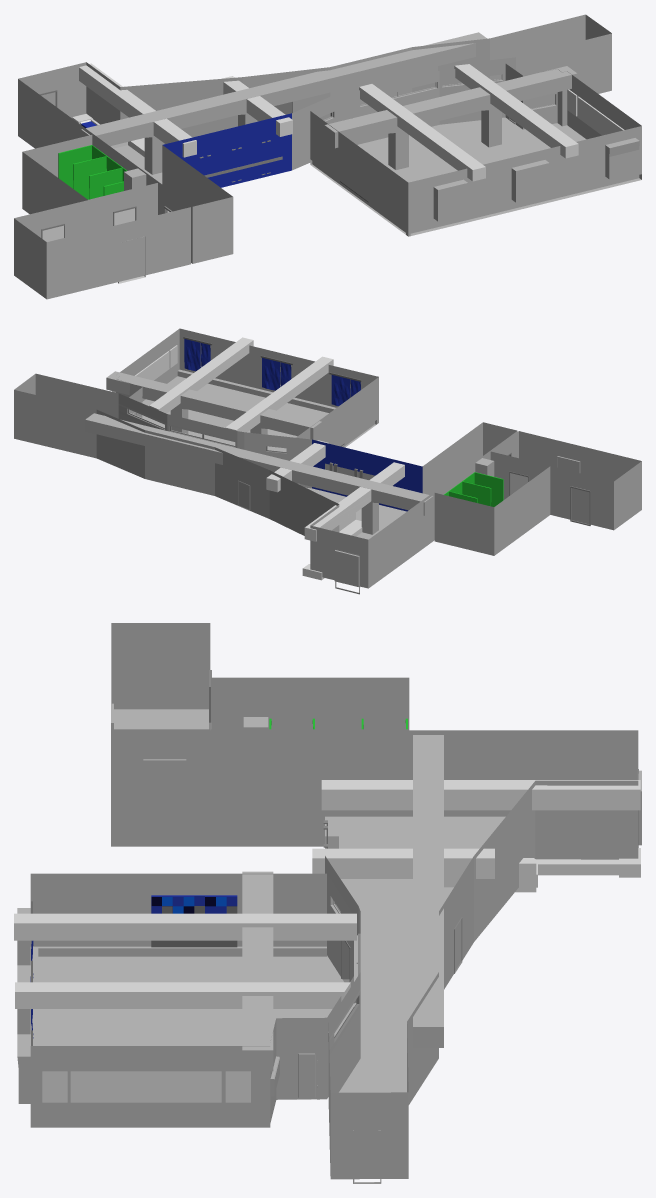
File: ScenaOld.fbx
3 views of the same model, one above another, from view 1: azimuth 30°, elevation 25°; view 2: azimuth 150°, elevation 25°; view 3: azimuth 270°, elevation 25° (orthographic). The views are drawn at different scales.
Visible parts, largest first — view 1: Hallway, Room, WC, HallwaySTUP, HallwaySTUP.001, Stalls, WhiteBoard2; view 2: Hallway, WC, Room, HallwaySTUP, HallwaySTUP.001, Stalls, Curtain2, Curtain3, Curtain1, WhiteBoard2; view 3: Hallway, Room, HallwaySTUP.001, HallwaySTUP, WC, WhiteBoard2, Hangers, SeatingArea, WhiteBoard1, WhiteBoard3, Bar.
Part boxes in pixels (bbox=[...]): Hallway: bbox=[18, 14, 611, 263]; Room: bbox=[310, 63, 641, 236]; WC: bbox=[14, 135, 190, 299]; HallwaySTUP: bbox=[79, 32, 486, 174]; HallwaySTUP.001: bbox=[324, 64, 578, 181]; Stalls: bbox=[58, 145, 127, 199]; WhiteBoard2: bbox=[577, 96, 624, 135]; Hallway: bbox=[14, 373, 517, 594]; WC: bbox=[434, 431, 641, 555]; Room: bbox=[112, 328, 378, 452]; HallwaySTUP: bbox=[85, 413, 433, 541]; HallwaySTUP.001: bbox=[106, 337, 333, 449]; Stalls: bbox=[444, 472, 503, 506]; Curtain2: bbox=[260, 355, 292, 390]; Curtain3: bbox=[183, 337, 212, 371]; Curtain1: bbox=[329, 372, 361, 406]; WhiteBoard2: bbox=[135, 351, 169, 380]; Hallway: bbox=[111, 730, 641, 1183]; Room: bbox=[17, 873, 357, 1127]; HallwaySTUP.001: bbox=[14, 871, 356, 1071]; HallwaySTUP: bbox=[312, 735, 640, 1047]; WC: bbox=[111, 623, 409, 760]; WhiteBoard2: bbox=[70, 1071, 221, 1102]; Hangers: bbox=[151, 895, 237, 947]; SeatingArea: bbox=[536, 848, 640, 877]; WhiteBoard1: bbox=[225, 1071, 250, 1102]; WhiteBoard3: bbox=[42, 1071, 67, 1102]; Bar: bbox=[444, 858, 537, 892].
Bounding box in the file's own units: 146 × 14.74 × 82.62.
